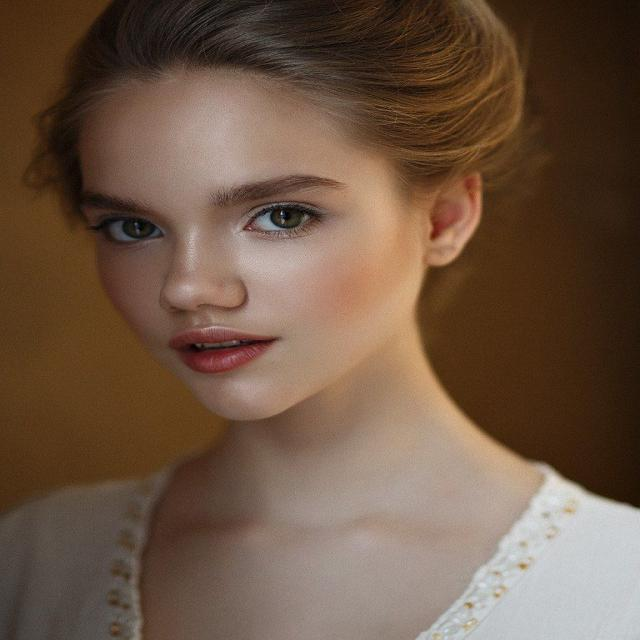earlobe: (425, 159, 486, 267)
